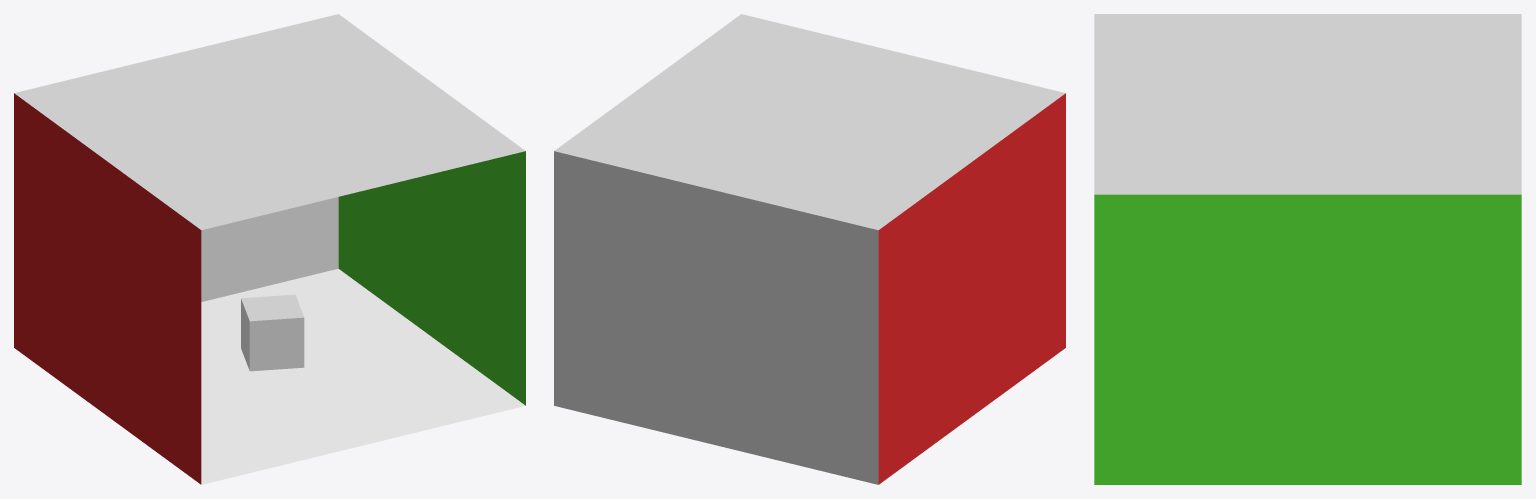
File: box_modified_2.glb
3 views of the same model, side by side, from view 1: azimuth 30°, elevation 25°; view 2: azimuth 150°, elevation 25°; view 3: azimuth 270°, elevation 25° (orthographic). The views are drawn at different scales.
Visible parts, largest first — view 1: cornellBox.000, Cube; view 2: cornellBox.000; view 3: cornellBox.000.
Part boxes in pixels (bbox=[...]): cornellBox.000: bbox=[14, 14, 525, 484]; Cube: bbox=[241, 294, 304, 371]; cornellBox.000: bbox=[554, 14, 1065, 484]; cornellBox.000: bbox=[1094, 14, 1521, 484].
Size of the model in its own units: 4 by 3 by 4.
